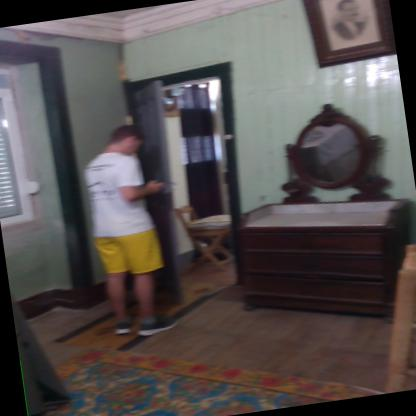semi: (119, 54, 264, 304)
